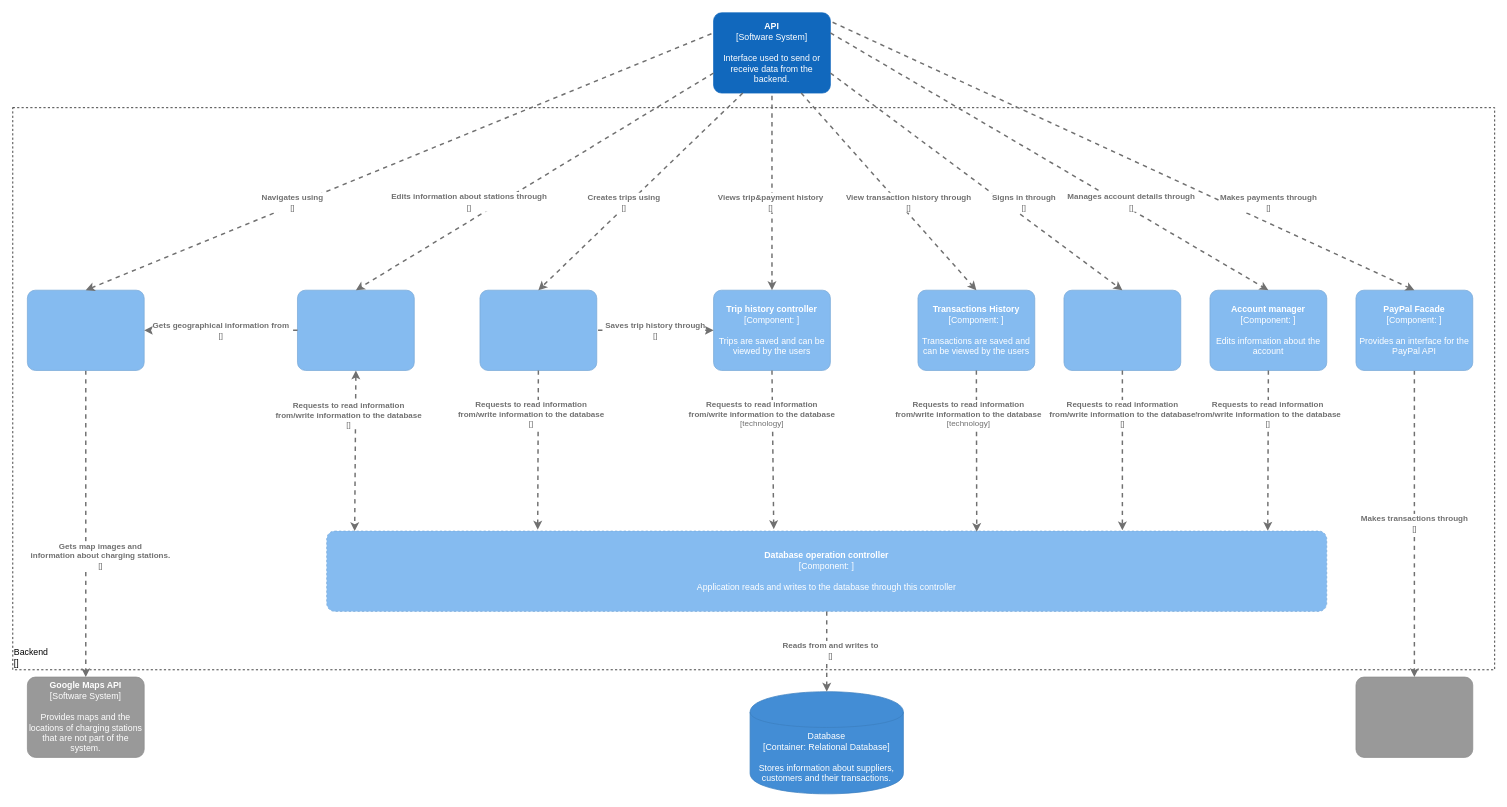
Image size: 1507x807. Some labels were removed from this diagram. The centre of each missing label's shape, as x and y in pixels:
"Google Maps Facade [Component: ] Provides an interface for the Google Maps API" goes at (x=85, y=329).
"PayPal API [Software System] Provides a method for customers to pay." goes at (x=1414, y=716).
"Sign In [Component: ] Allows users to sign in" goes at (x=1122, y=329).
"Station controller [Component: ] Edits information about stations" goes at (x=355, y=329).
"Trip Creator [Component: technology] Creates trips" goes at (x=538, y=329).
